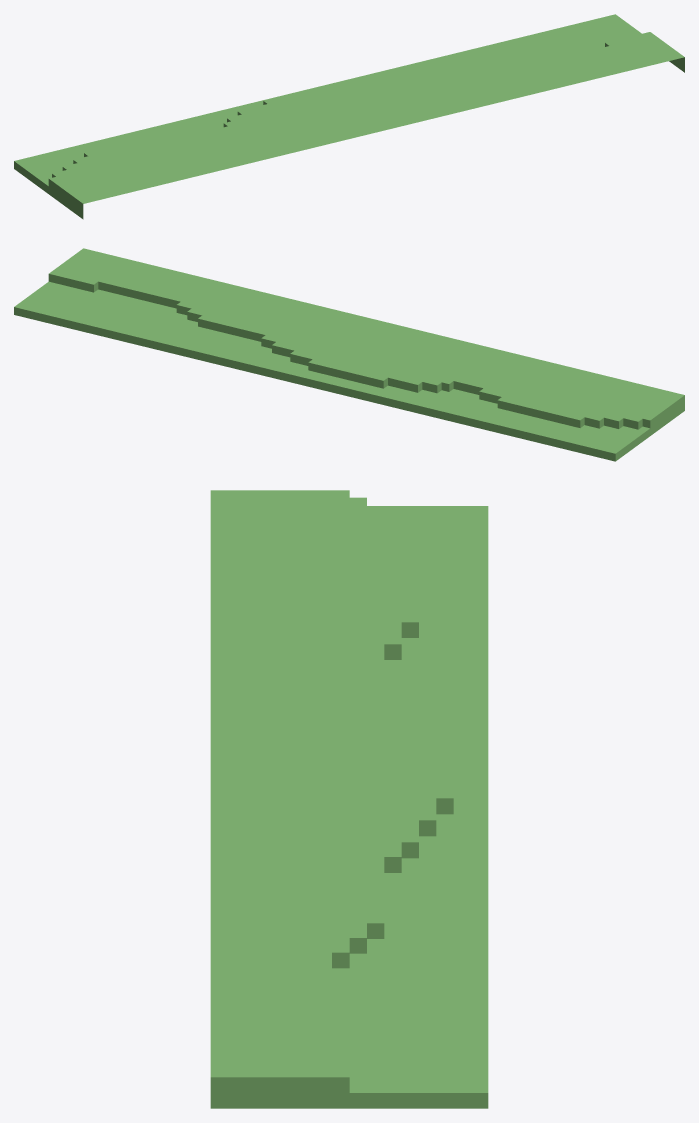
File: Straight10-1step-3.fbx
The picture shows the model from 3 angles, top to bottom: view 1: azimuth 30°, elevation 25°; view 2: azimuth 150°, elevation 25°; view 3: azimuth 270°, elevation 25°; orthographic projection. The views are drawn at different scales.
Parts seen in each view (by area): view 1: Straight10-1step-3; view 2: Straight10-1step-3; view 3: Straight10-1step-3.
Part boxes in pixels (x1,y1,x2,y2): Straight10-1step-3: (14,14,684,219); Straight10-1step-3: (14,248,684,461); Straight10-1step-3: (210,490,488,1108).
Bounding box in the file's own units: 80 × 2 × 16.
1 material, 1 textured.
